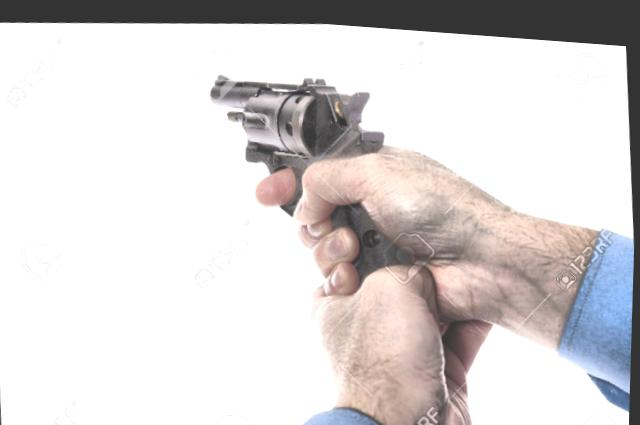pistol: (196, 41, 430, 320)
